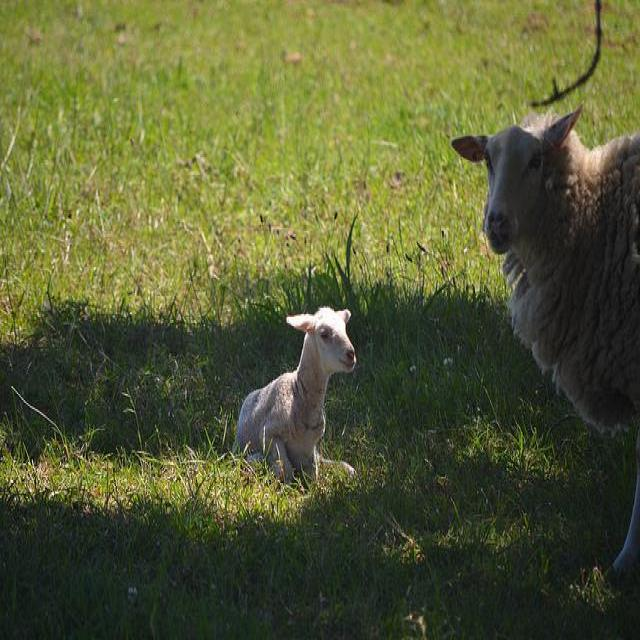Sheep: (445, 100, 639, 593), (238, 306, 357, 483)
